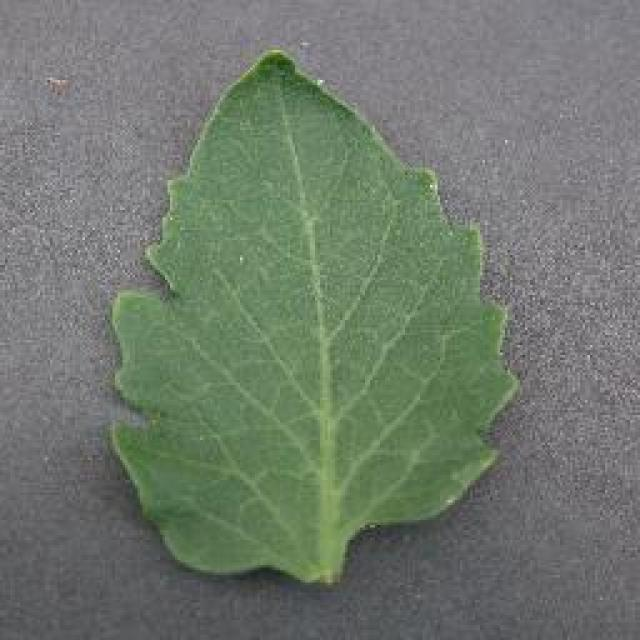healthy: (108, 47, 520, 583)
